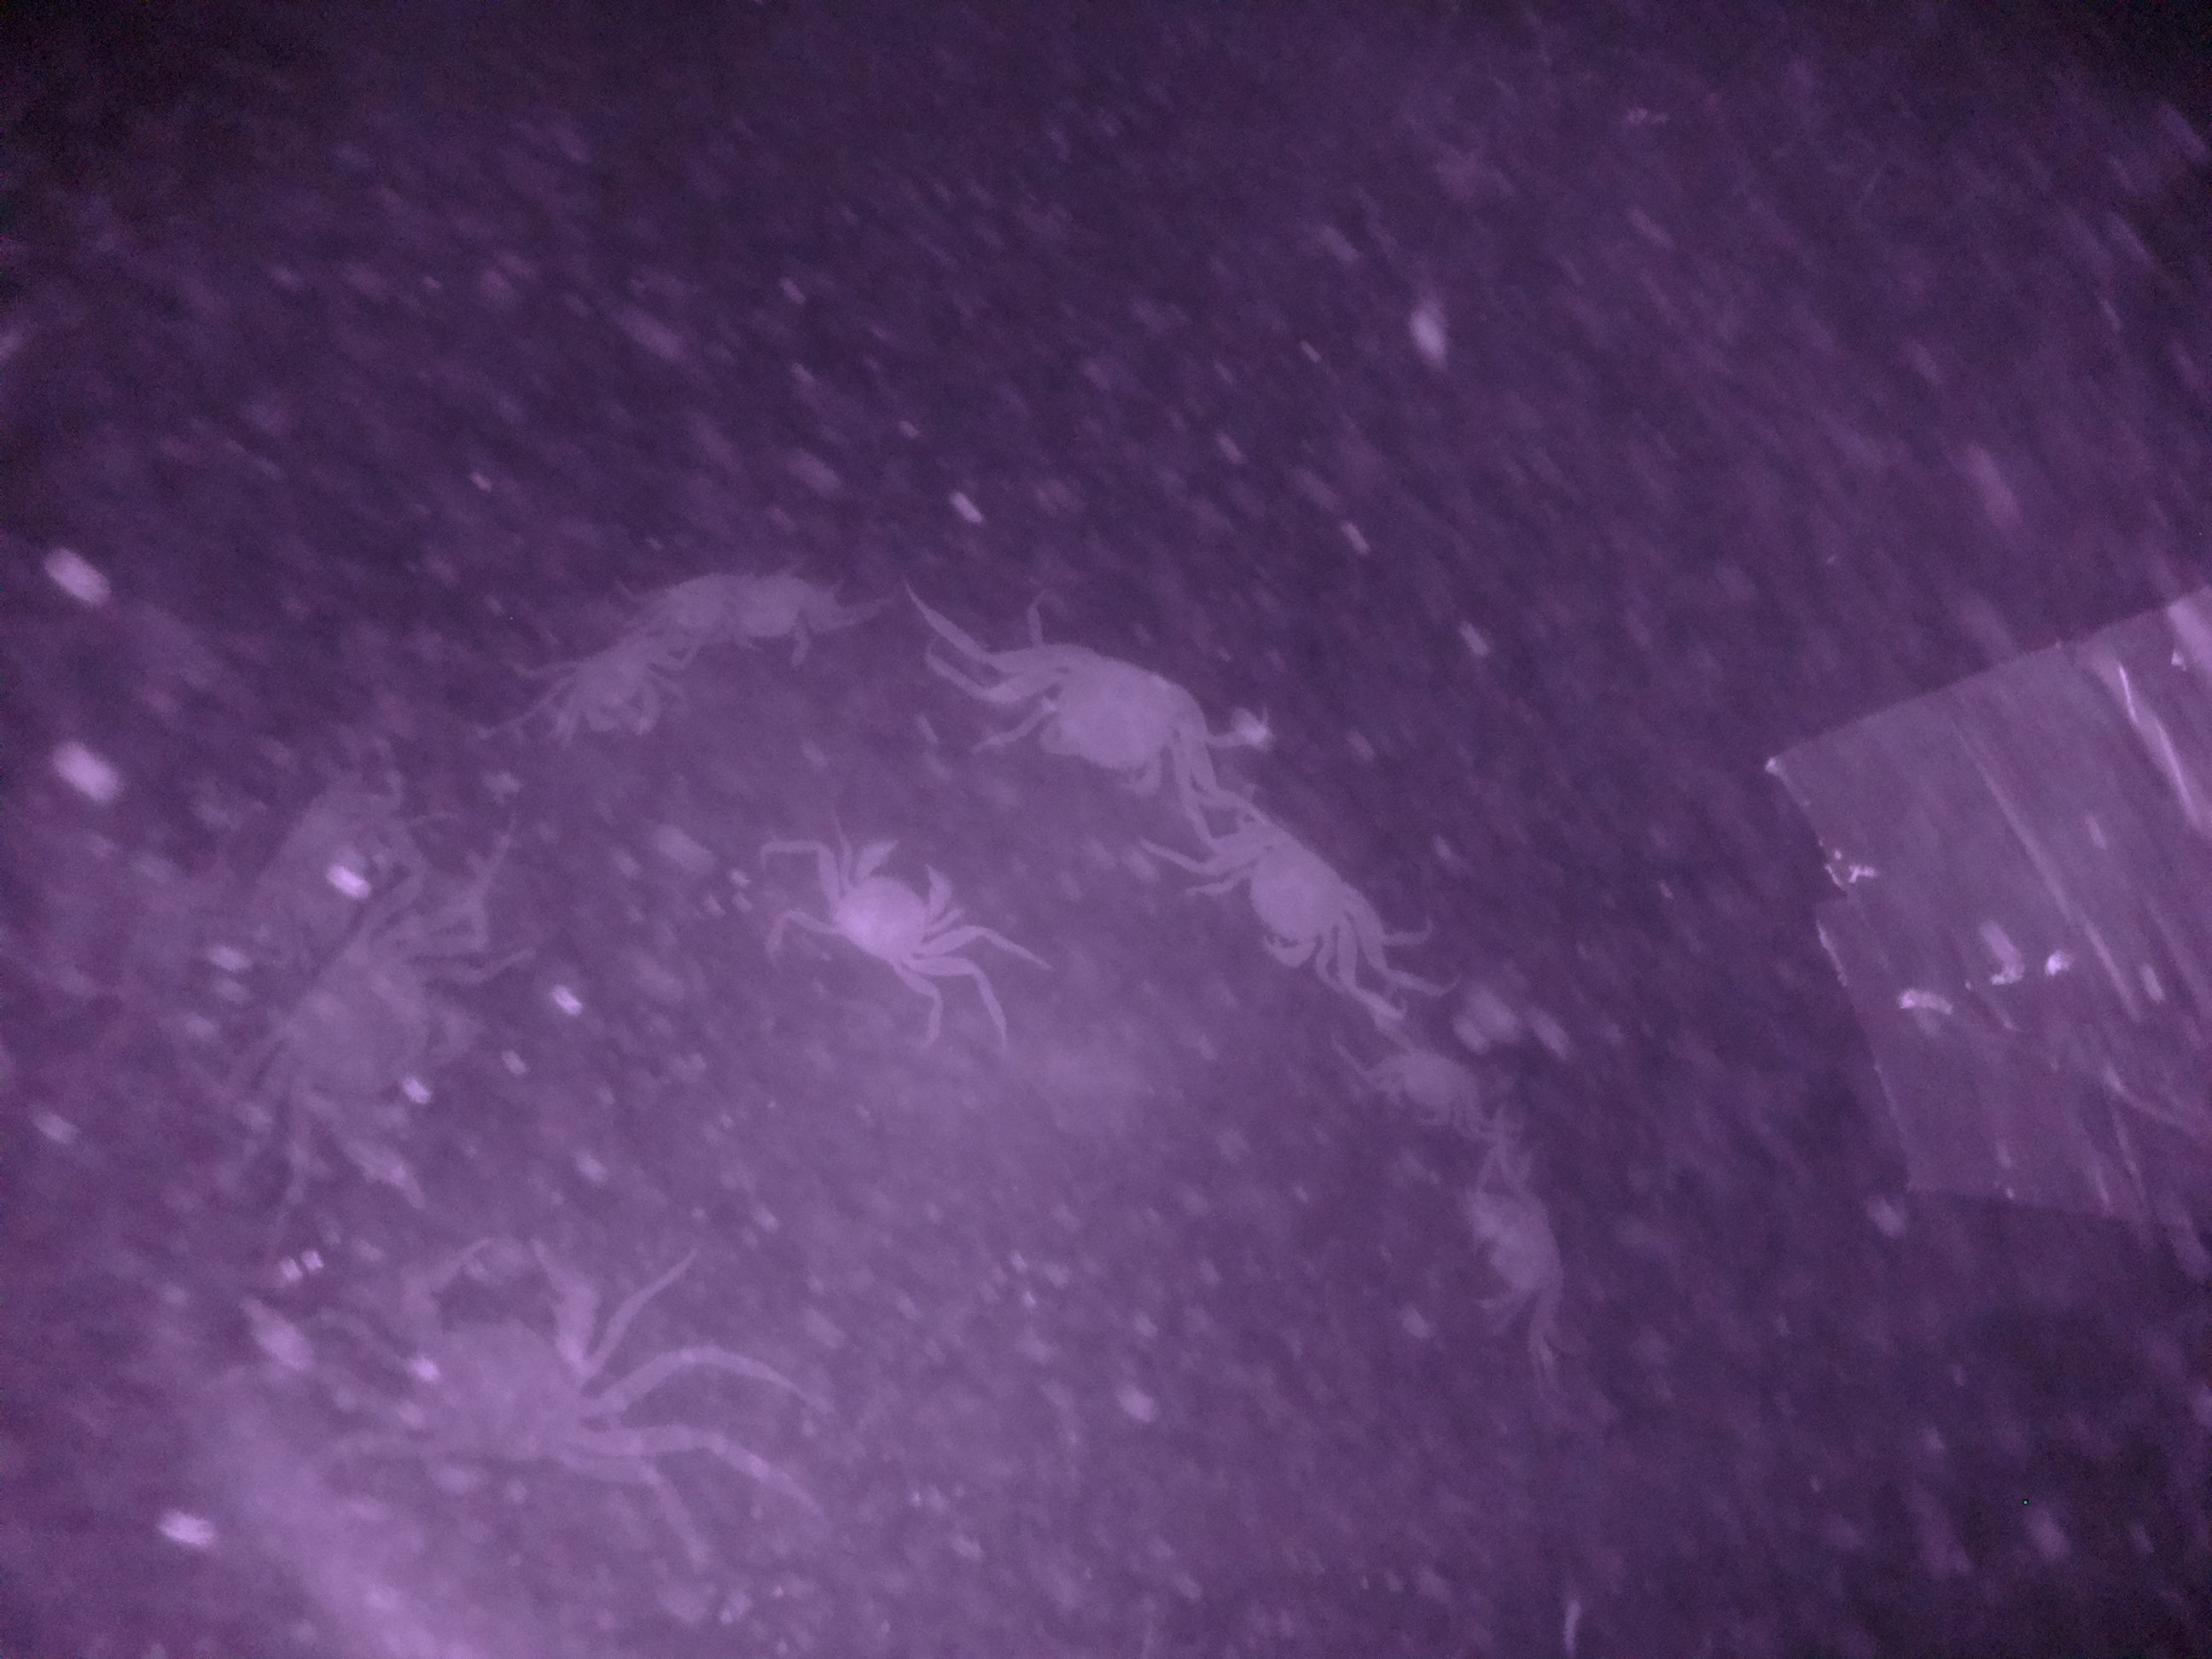Crab: (993, 615, 1237, 795), (1170, 795, 1402, 971), (806, 810, 967, 985)
